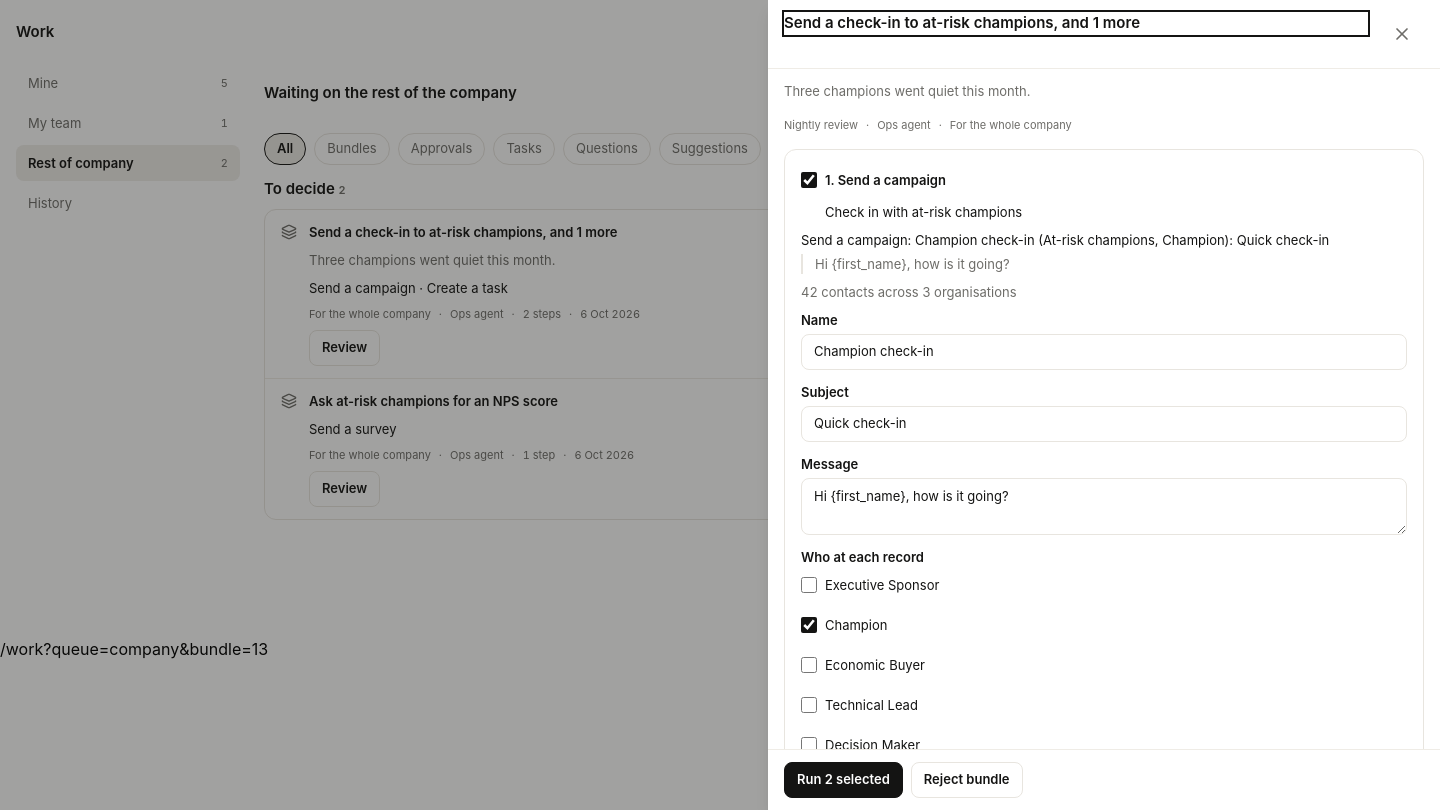
Scenario: Bundle panel: retry, reject, discard and refusals (frontend Decisions 6, 12, 14, 15) › asks before throwing away edits to a failed step of a partly done bundle
Click the button "Run 2 selected".
click(843, 780)  # box [784,762,903,798]
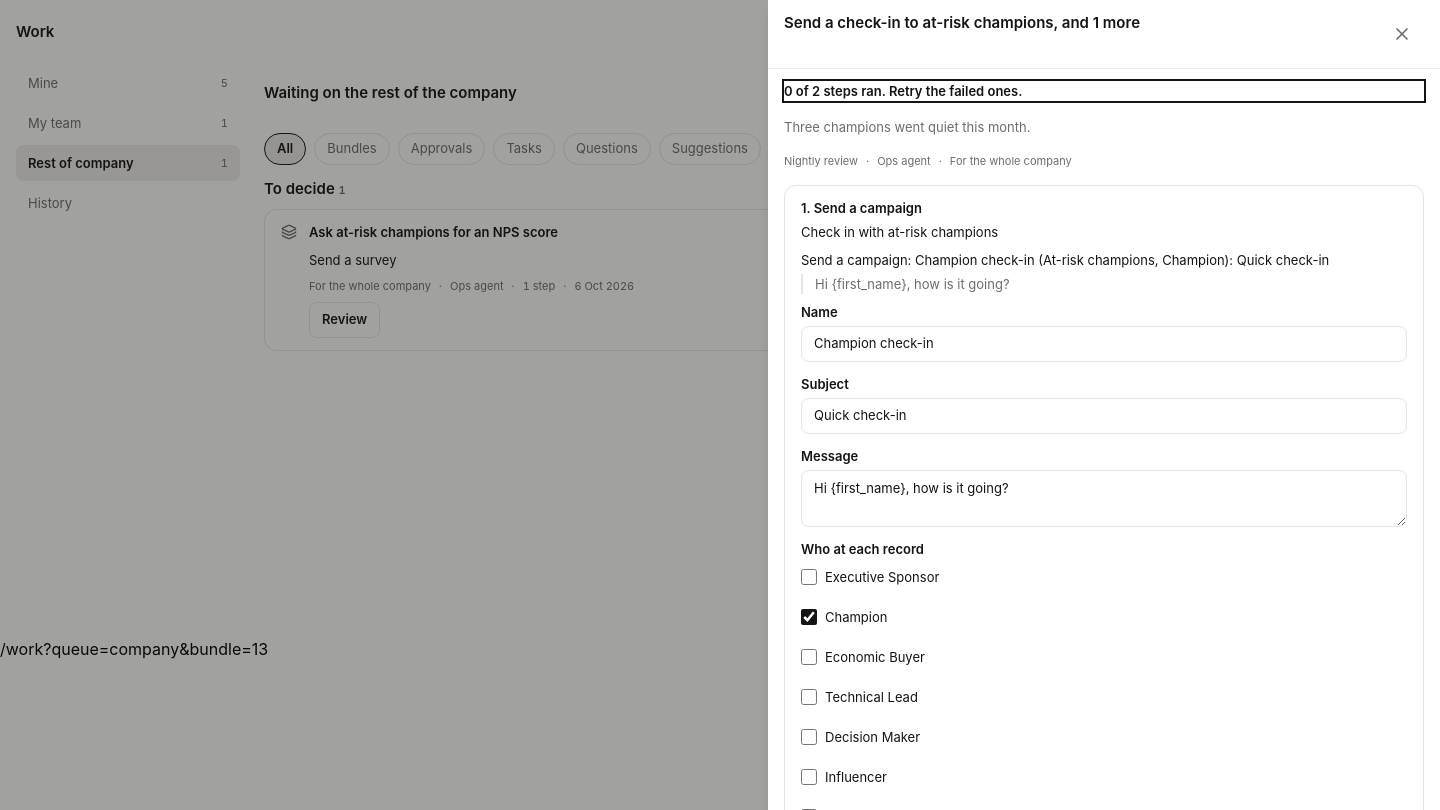
expect the text "0 of 2 steps ran. Retry the failed ones." is shown: met, box [784,83,1022,99]
Type " soon" into the field labelled "Subject".
click(1104, 416); type(" soon")  # box [801,398,1407,434]
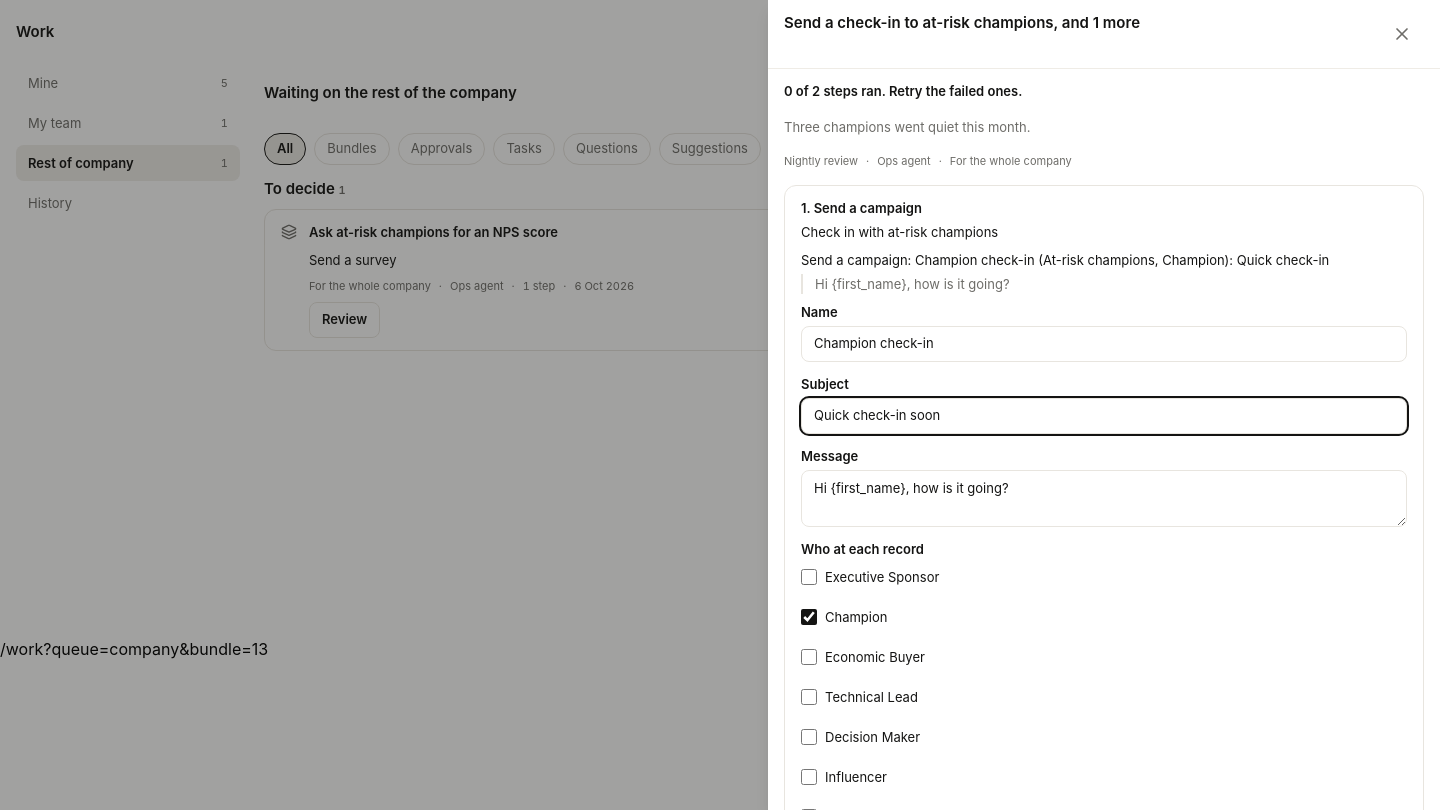
Press Escape
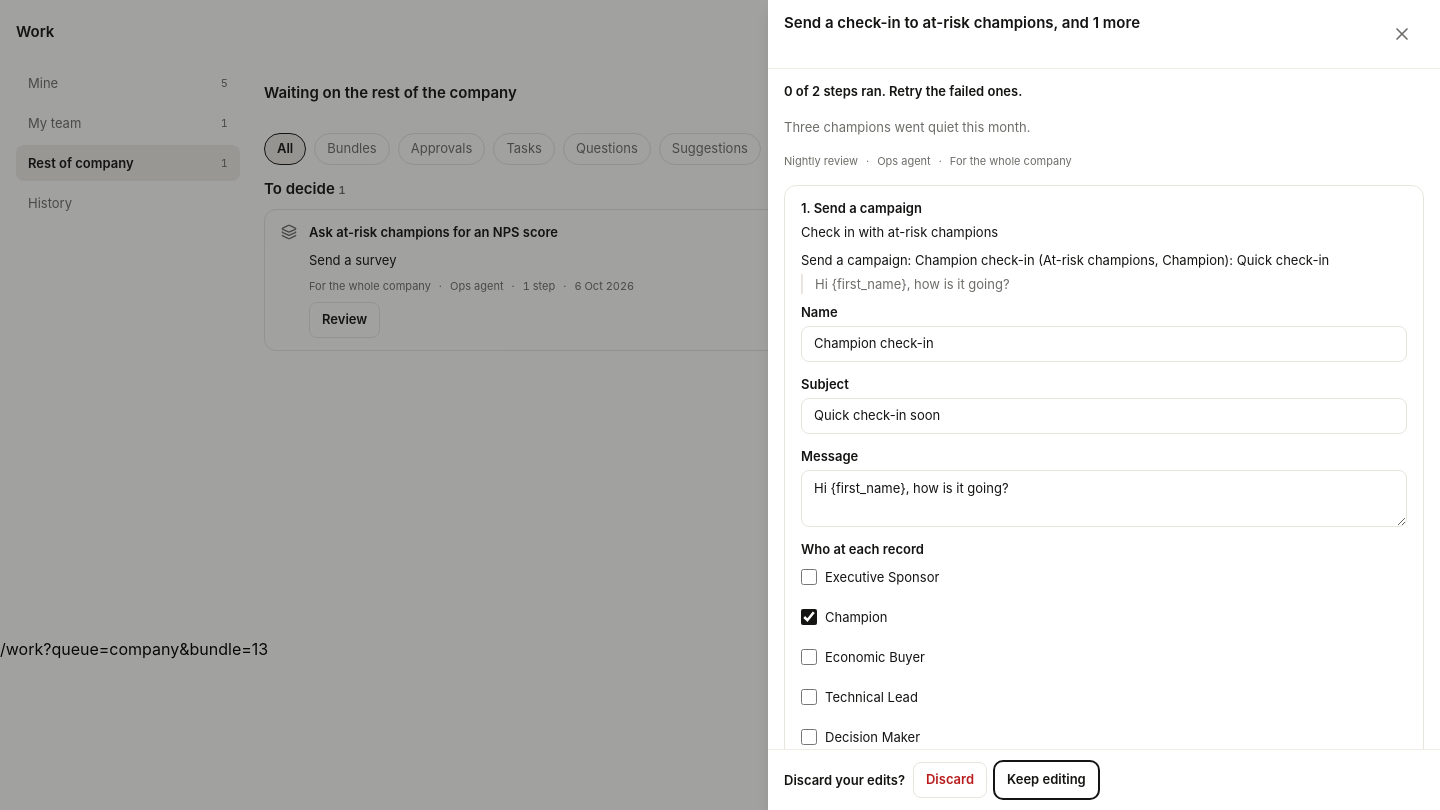
expect the text "Discard your edits?" is shown: met, box [784,770,905,790]
